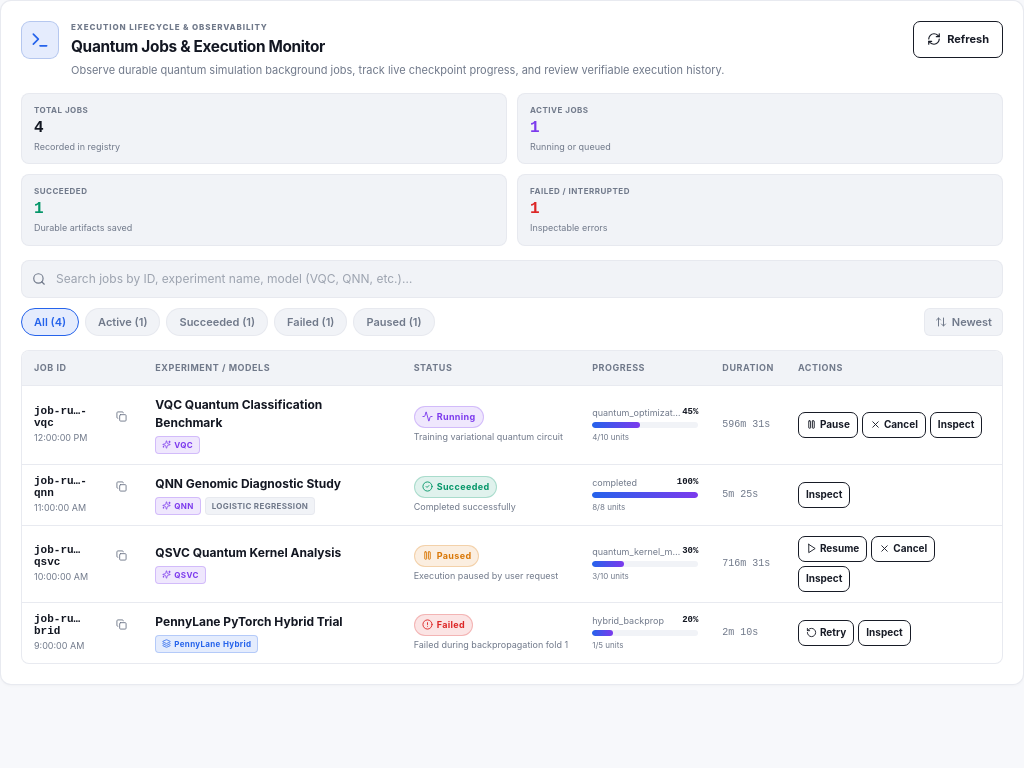
QuantumJobManager component › filters job list when status filter pills are clicked
Expected: the text "VQC Quantum Classification Benchmark" is shown, x1=155 y1=396 x2=322 y2=430
// Click Active filter pill
What coordinates should you click on to do the following:
click the button "Active (1)"
I would click on:
 (123, 322)
Its box is x1=85 y1=308 x2=160 y2=336.
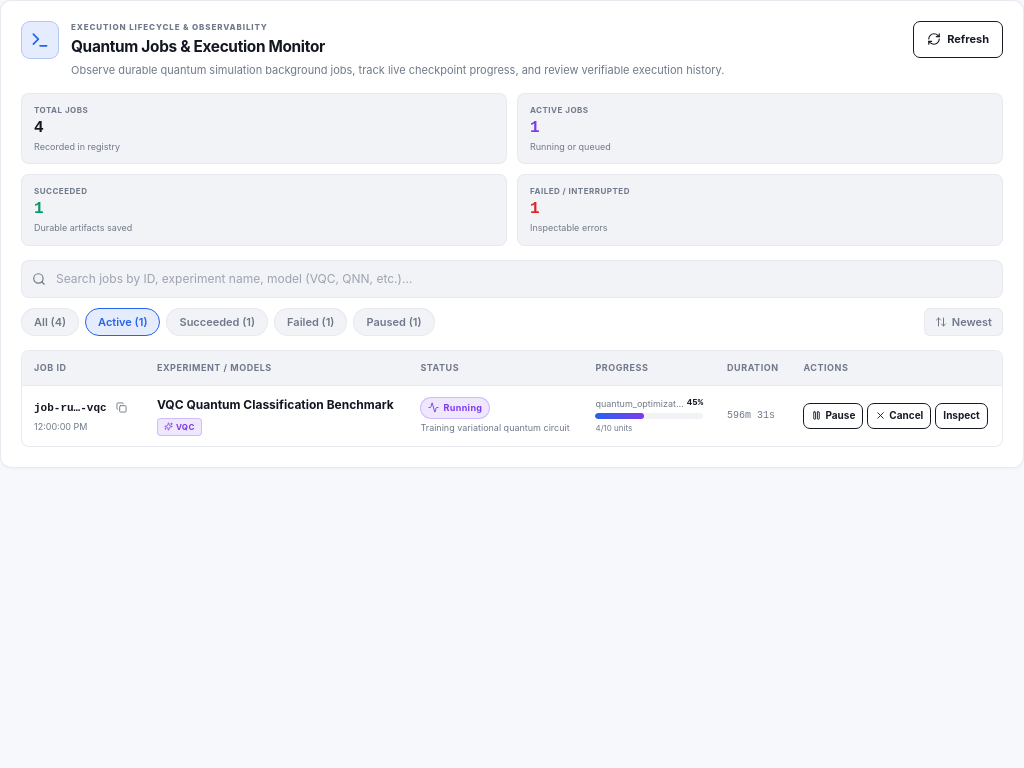
Expected: the text "VQC Quantum Classification Benchmark" is shown, x1=157 y1=396 x2=396 y2=414
Now the text "QNN Genomic Diagnostic Study" is gone
Now the text "PennyLane PyTorch Hybrid Trial" is gone
// Click Succeeded filter pill
What coordinates should you click on to do the following:
click the button "Succeeded (1)"
I would click on:
 (217, 322)
Its box is x1=166 y1=308 x2=268 y2=336.
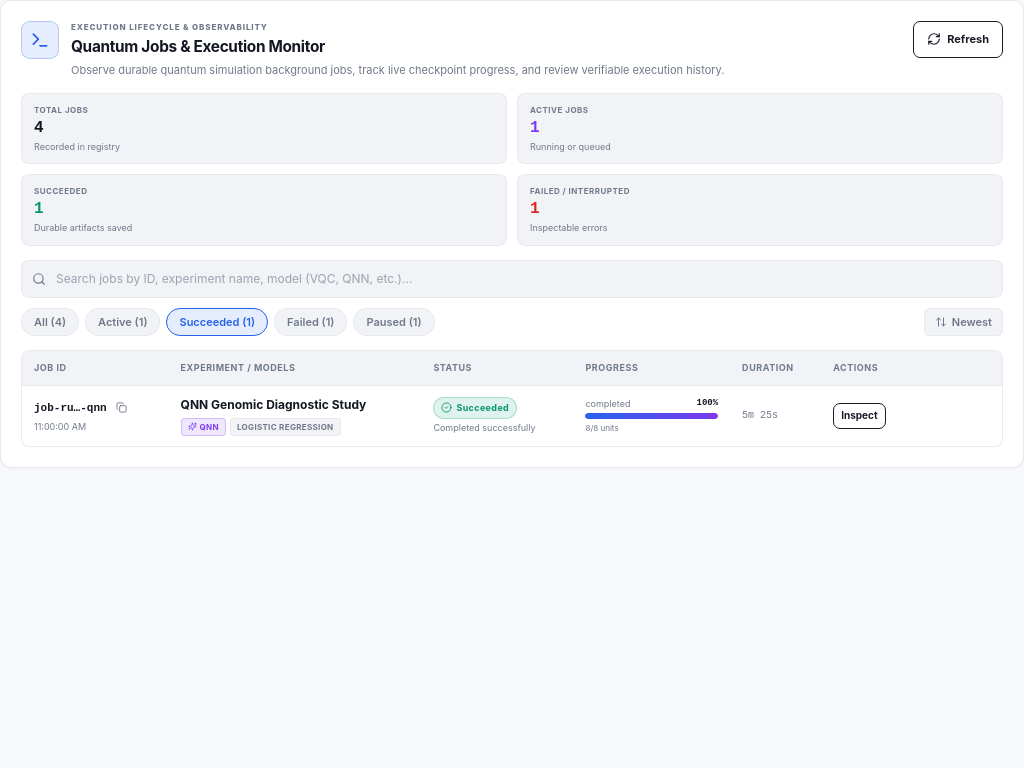
Now the text "QNN Genomic Diagnostic Study" is shown, box x1=181 y1=396 x2=366 y2=412
Now the text "VQC Quantum Classification Benchmark" is gone
// Click Failed filter pill
What coordinates should you click on to do the following:
click the button "Failed (1)"
I would click on:
 (311, 322)
Its box is x1=274 y1=308 x2=347 y2=336.
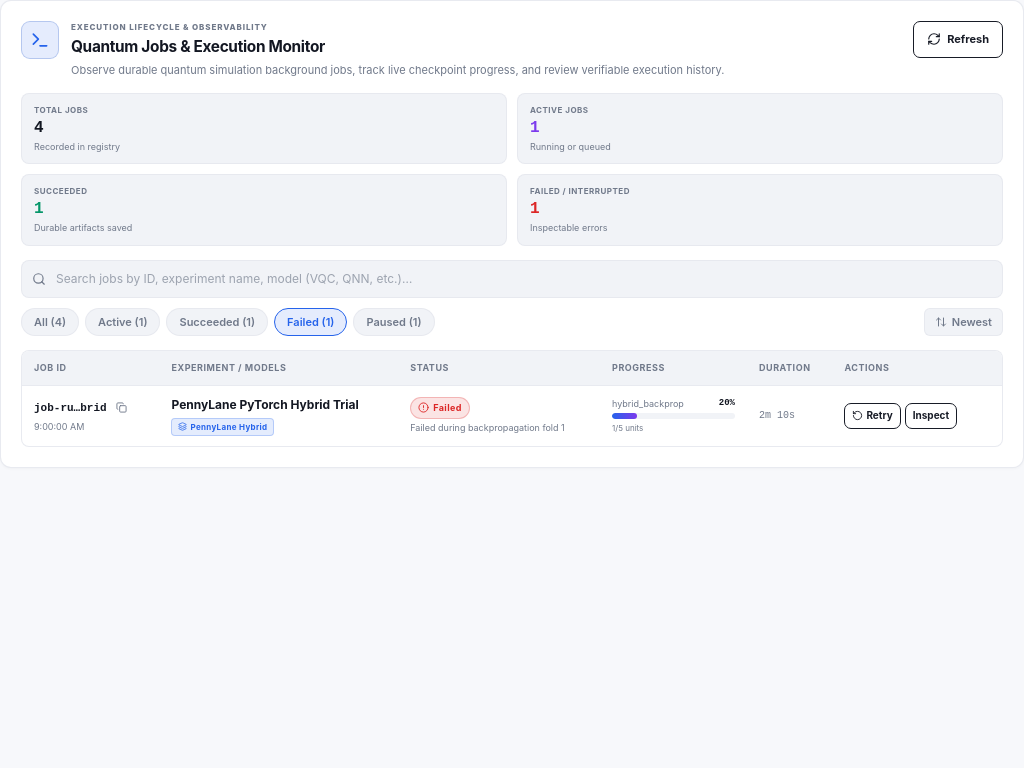
Now the text "PennyLane PyTorch Hybrid Trial" is shown, box x1=172 y1=396 x2=386 y2=414
